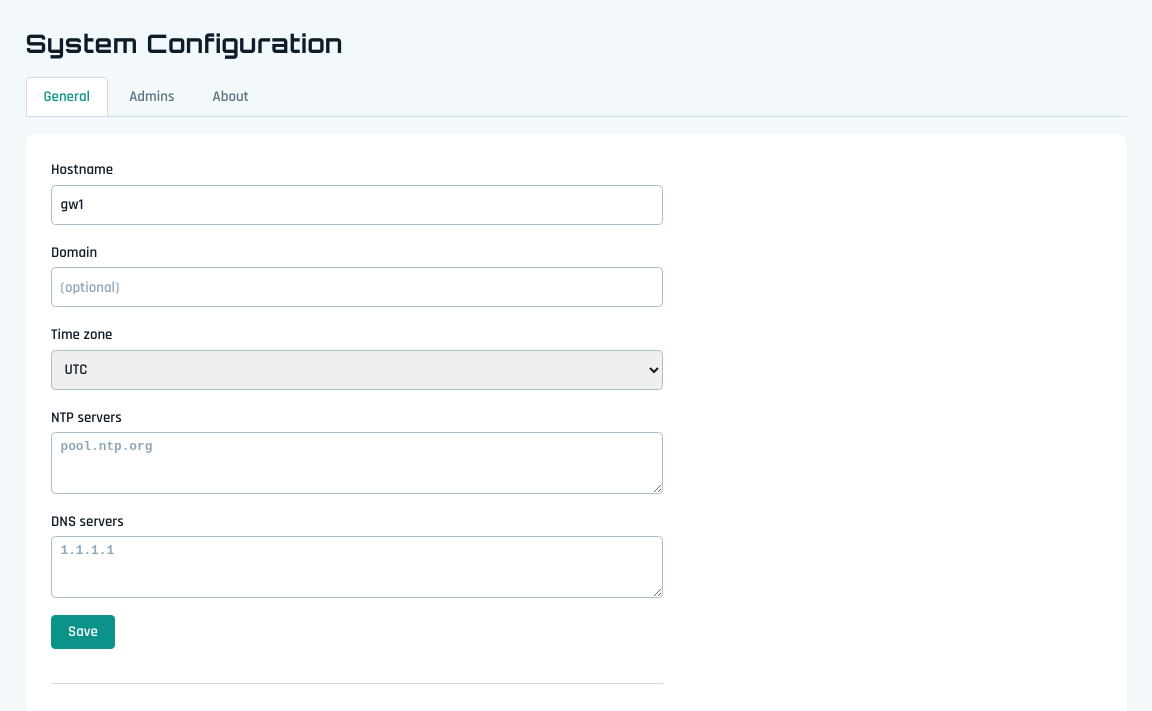
Scenario: a limited role › System hides the admin-only tabs without full_admin, but keeps their own account
Check: the field labelled "Hostname" is shown, box [51,185,663,225]
Check: the button "General" is shown, box [26,76,108,116]
// Admins shows only their own two-factor login and sessions: no account list, no roles editor
Click the button "Admins".
click(152, 96)  # box [112,76,191,116]
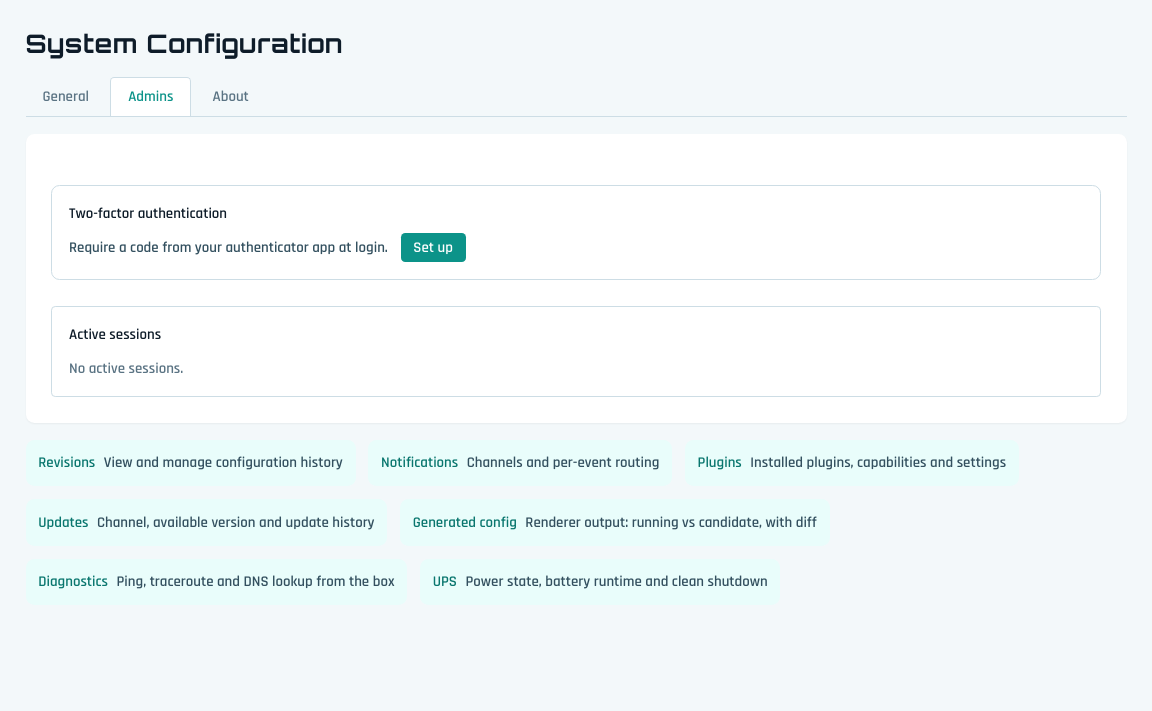
Check: the button "Set up" is shown, box [400,232,466,262]
